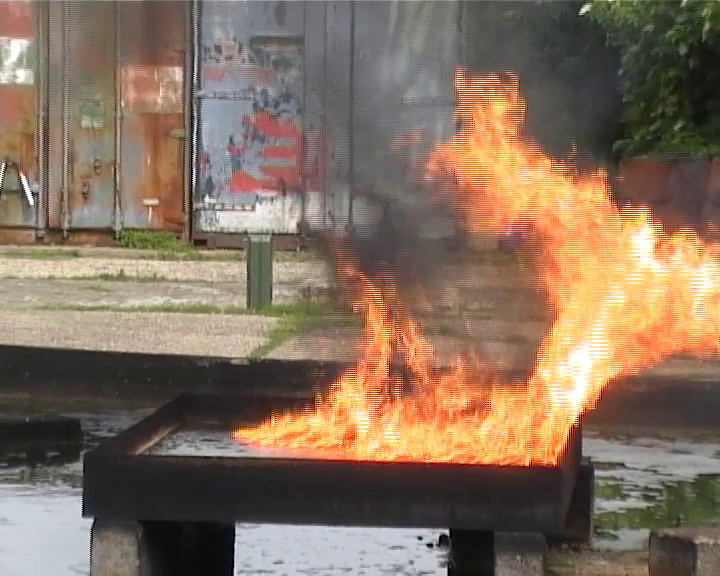fire: (230, 68, 720, 464)
